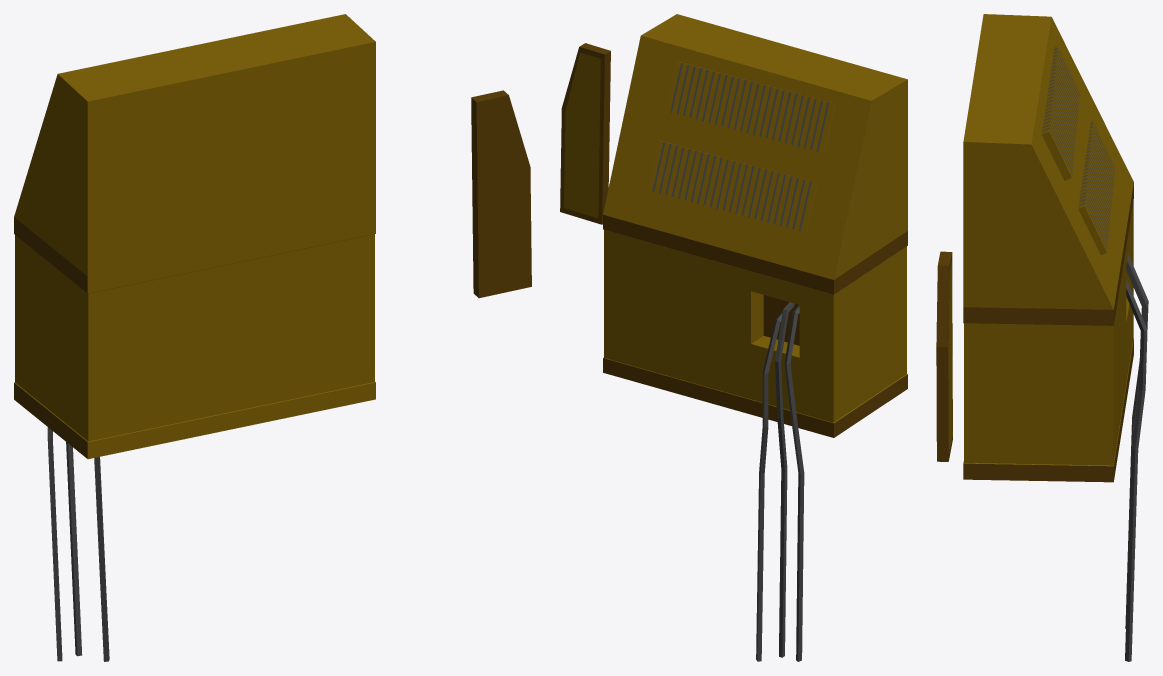
Rendered from FirstHouseTVextension2.glb.
3 renders of one model, left to right at view 1: azimuth 30°, elevation 25°; view 2: azimuth 150°, elevation 25°; view 3: azimuth 270°, elevation 25°, orthographic. The views are drawn at different scales.
Visible parts, largest first — view 1: Cube.002, Cube.004, Cube.013; view 2: Cube.002, Cube.003, Cube.010, Cube.004, Cube.013; view 3: Cube.002, Cube.013, Cube.004, Cube.003, Cube.010.
Part boxes in pixels (bbox=[...]): Cube.002: bbox=[14, 14, 375, 459]; Cube.004: bbox=[471, 90, 531, 298]; Cube.013: bbox=[47, 427, 109, 661]; Cube.002: bbox=[603, 14, 907, 437]; Cube.003: bbox=[664, 61, 836, 153]; Cube.010: bbox=[647, 140, 817, 232]; Cube.004: bbox=[560, 43, 610, 224]; Cube.013: bbox=[756, 302, 804, 661]; Cube.002: bbox=[963, 14, 1133, 482]; Cube.013: bbox=[1125, 254, 1148, 661]; Cube.004: bbox=[936, 251, 952, 461]; Cube.003: bbox=[1041, 45, 1080, 180]; Cube.010: bbox=[1078, 120, 1115, 254].
Size of the model in its own units: 0.5159 by 0.7494 by 0.2388.
2 materials, 2 textured.
